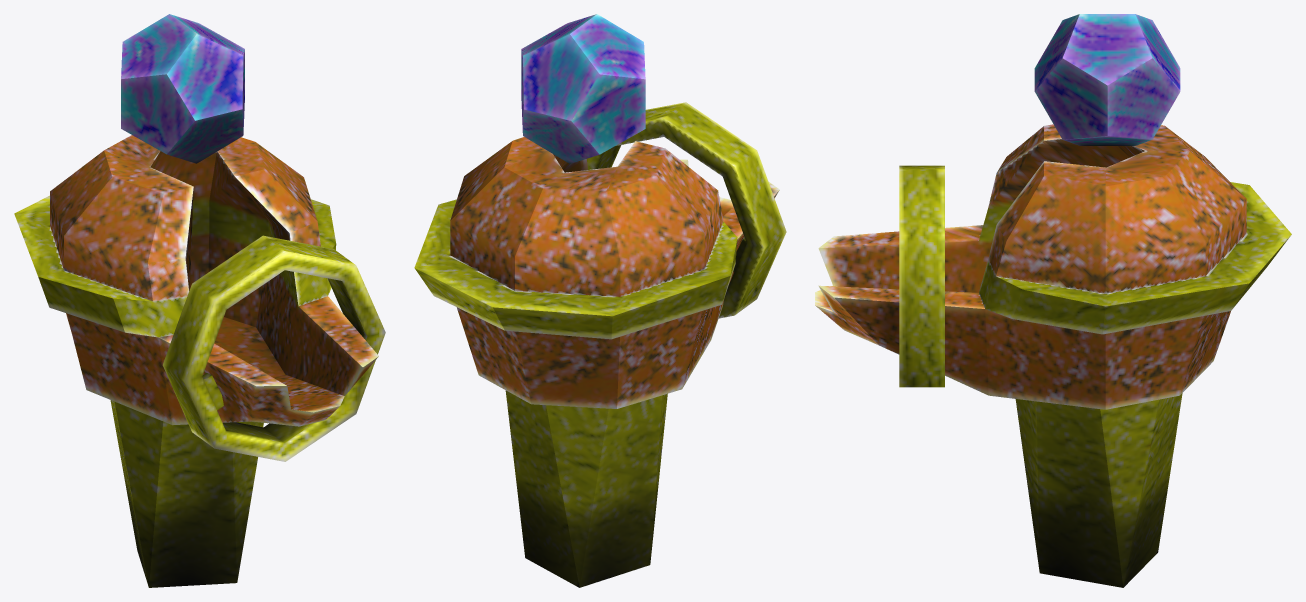
File: EctoLOD1Top.fbx
3 renders of one model, left to right at view 1: azimuth 30°, elevation 25°; view 2: azimuth 150°, elevation 25°; view 3: azimuth 270°, elevation 25°, orthographic.
Visible parts, largest first — view 1: polySurface1884; view 2: polySurface1884; view 3: polySurface1884.
Part boxes in pixels (x1,y1,x2,y2): polySurface1884: (14,14,385,587); polySurface1884: (414,14,786,587); polySurface1884: (815,14,1291,587).
Size of the model in its own units: 1.94 by 3.42 by 2.7.
Materials: 1 (1 with a texture image).
